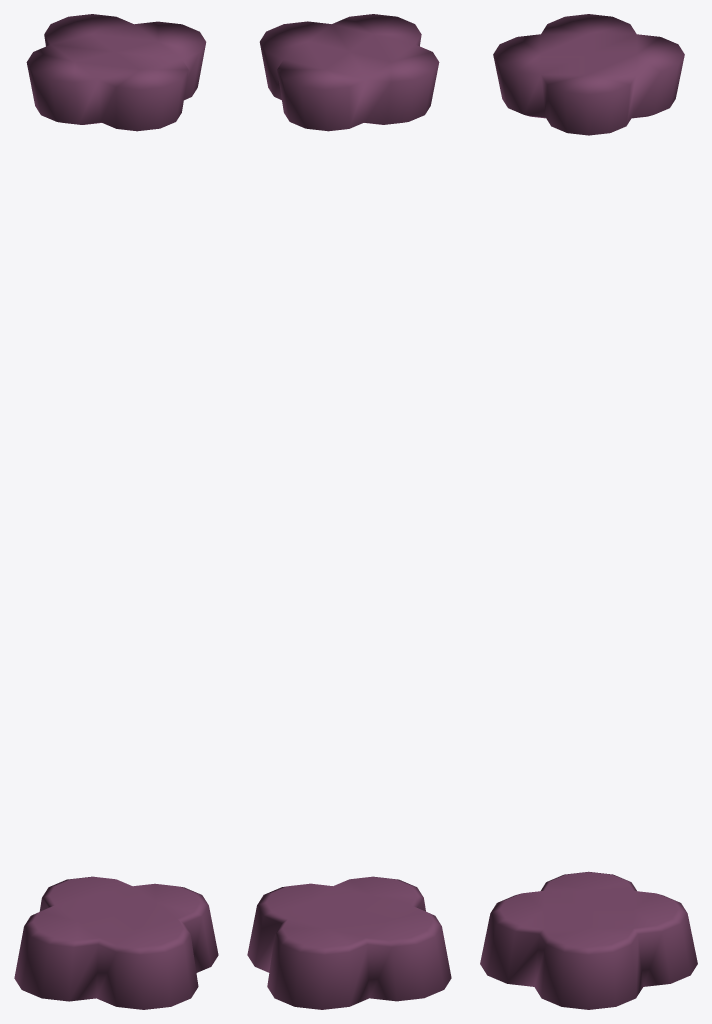
File: Pillar_04_x2_Base_Lod0.fbx
3 views of the same model, side by side, from view 1: azimuth 30°, elevation 25°; view 2: azimuth 150°, elevation 25°; view 3: azimuth 270°, elevation 25° (orthographic).
Visible parts, largest first — view 1: Pillar_04_x2_Base_Lod0; view 2: Pillar_04_x2_Base_Lod0; view 3: Pillar_04_x2_Base_Lod0.
Boxes of the visible parts, x1,y1,x2,y2 form: Pillar_04_x2_Base_Lod0: [14, 14, 218, 1009]; Pillar_04_x2_Base_Lod0: [247, 14, 451, 1009]; Pillar_04_x2_Base_Lod0: [480, 14, 697, 1009].
Size of the model in its own units: 131 by 603 by 131.
